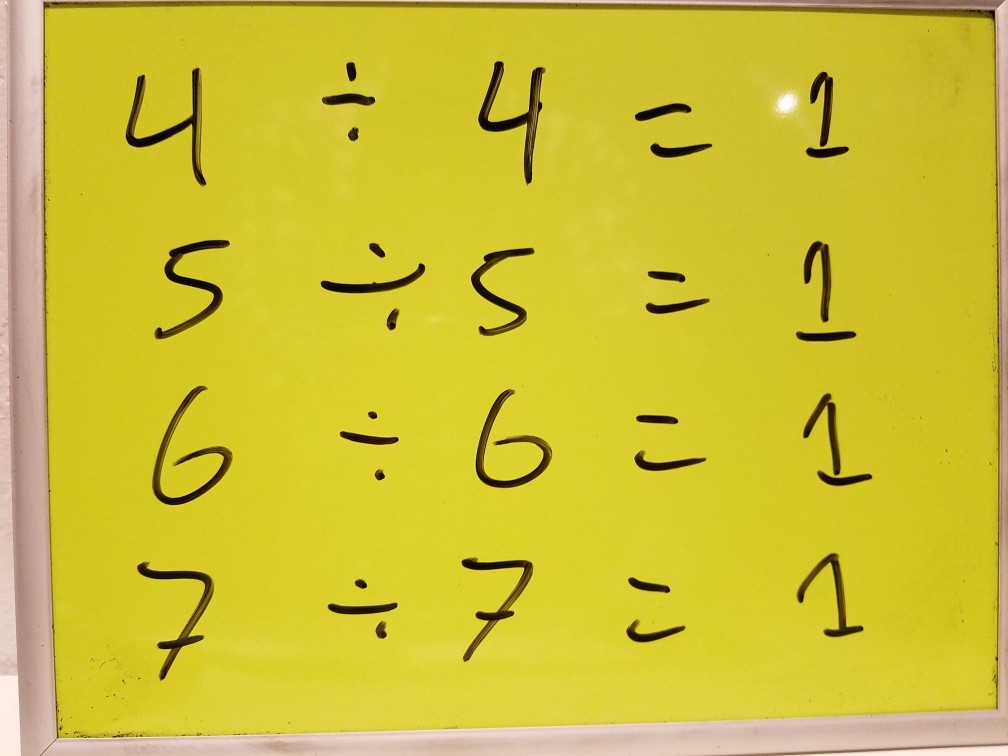1: (793, 381, 881, 498), (783, 233, 865, 348), (781, 545, 870, 647), (797, 58, 858, 173)
4: (120, 58, 222, 199), (466, 51, 558, 195)
5: (142, 230, 244, 346), (460, 235, 545, 351)
6: (142, 377, 241, 518), (464, 382, 558, 500)
7: (445, 540, 539, 676), (133, 548, 221, 691)
=: (621, 91, 726, 174), (622, 398, 717, 483), (617, 563, 693, 652), (630, 256, 718, 322)
div: (316, 236, 432, 334), (323, 560, 410, 650), (309, 52, 389, 148), (327, 401, 405, 489)
